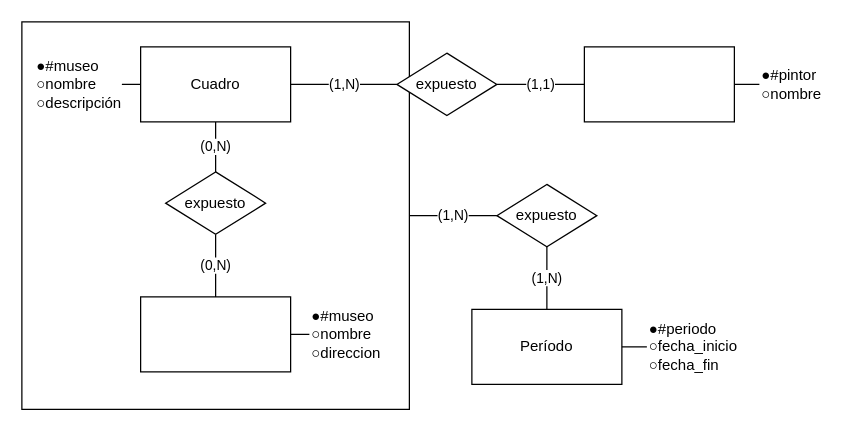
Some shapes in this 856 by 431 pixel diagram are drawn without their labels. The box of each missing label's shape, as (x1, y1, x2, y2) in pixels:
Museo: (139, 296, 291, 372)
Pintor: (583, 46, 734, 122)
